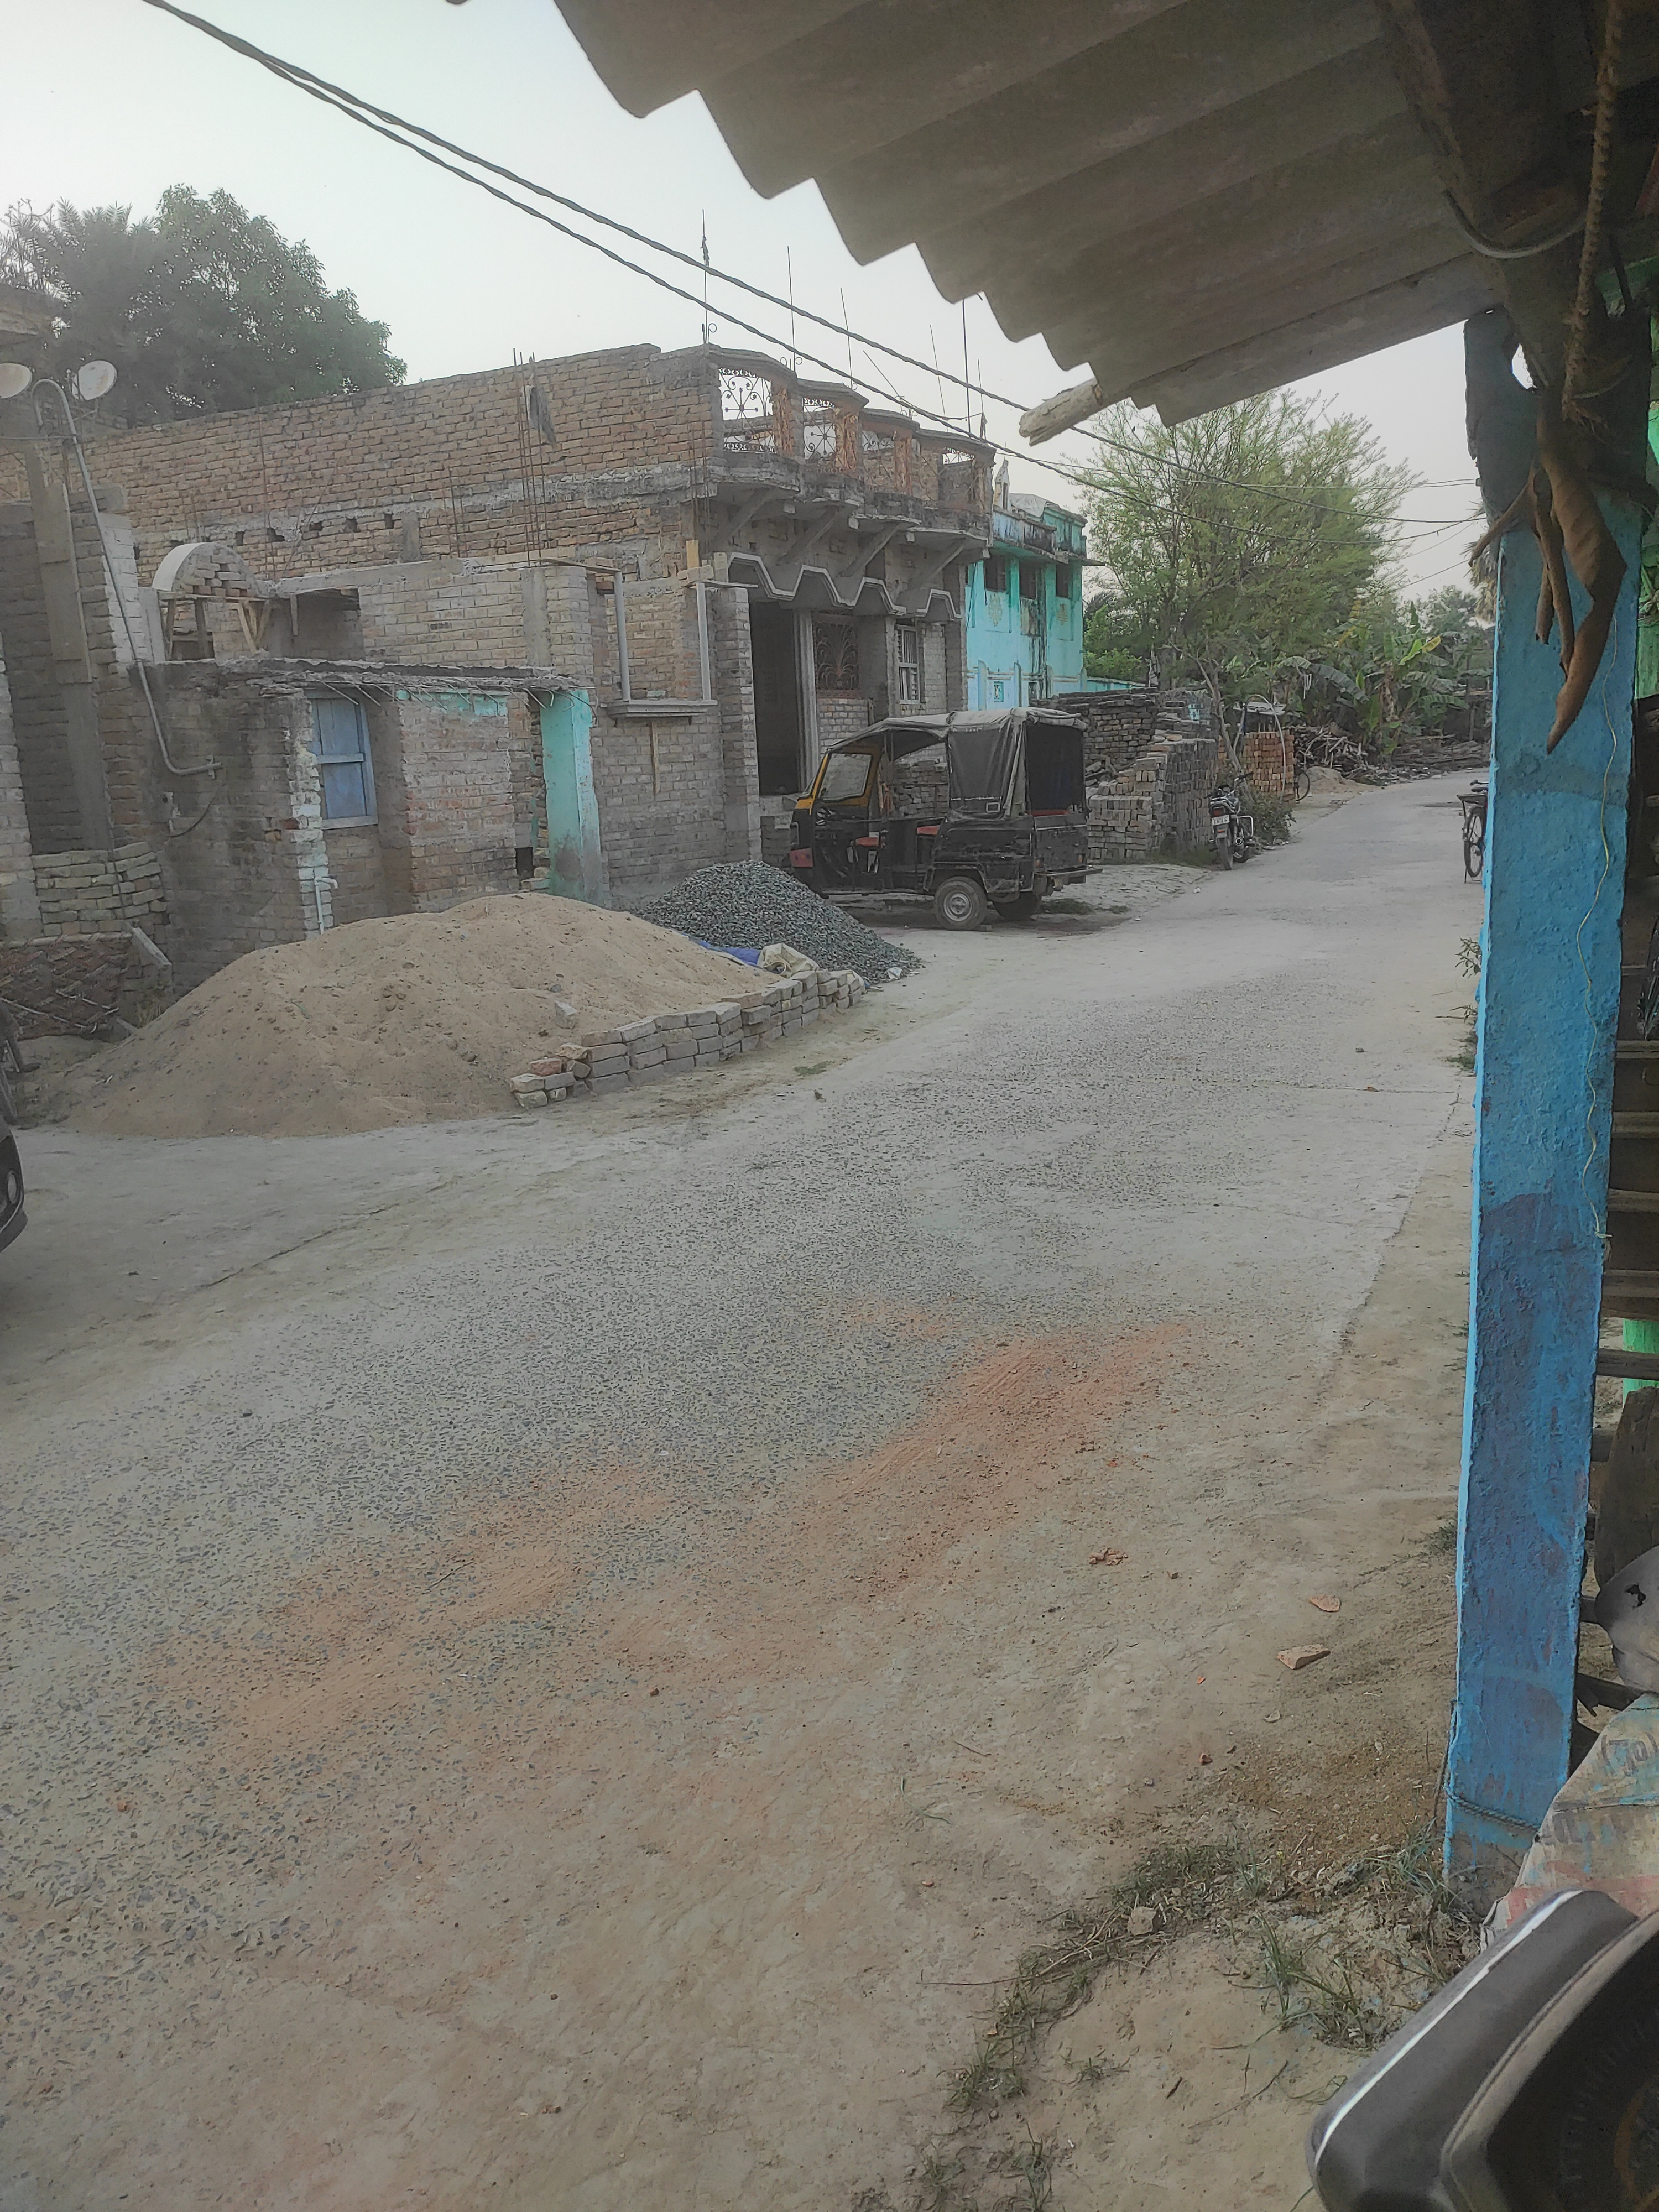auto: (779, 707, 1098, 928)
bicycle: (1459, 775, 1486, 881)
two_wheelers: (1204, 770, 1258, 869)
